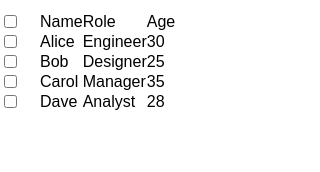
Test: Table › Selectable › selects all rows with select-all checkbox
Click the checkbox named "Select all rows".
click(10, 22)  # box [4, 15, 17, 28]
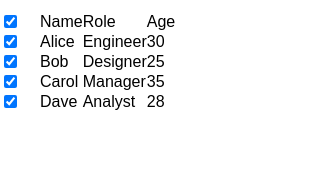
Now the checkbox named "Select row 1" is checked, box [4, 35, 17, 48]
Now the checkbox named "Select row 2" is checked, box [4, 55, 17, 68]
